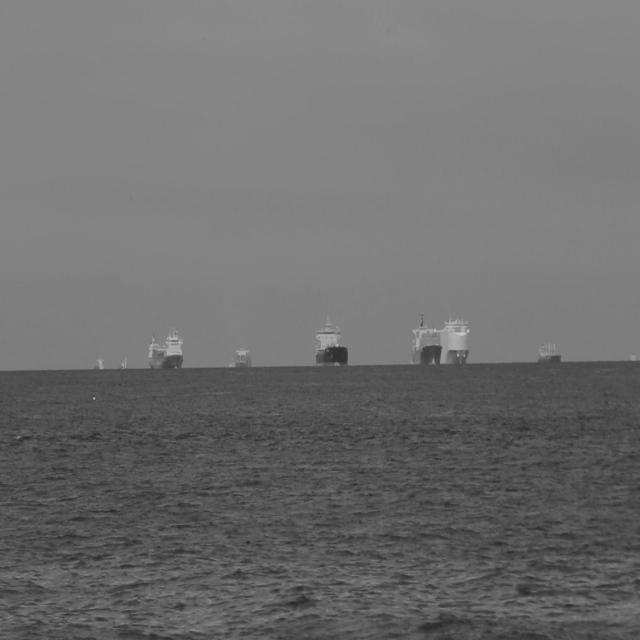ship: (408, 307, 441, 363), (316, 314, 348, 366), (146, 326, 182, 369), (441, 313, 468, 363), (533, 336, 560, 368), (231, 338, 254, 369)
